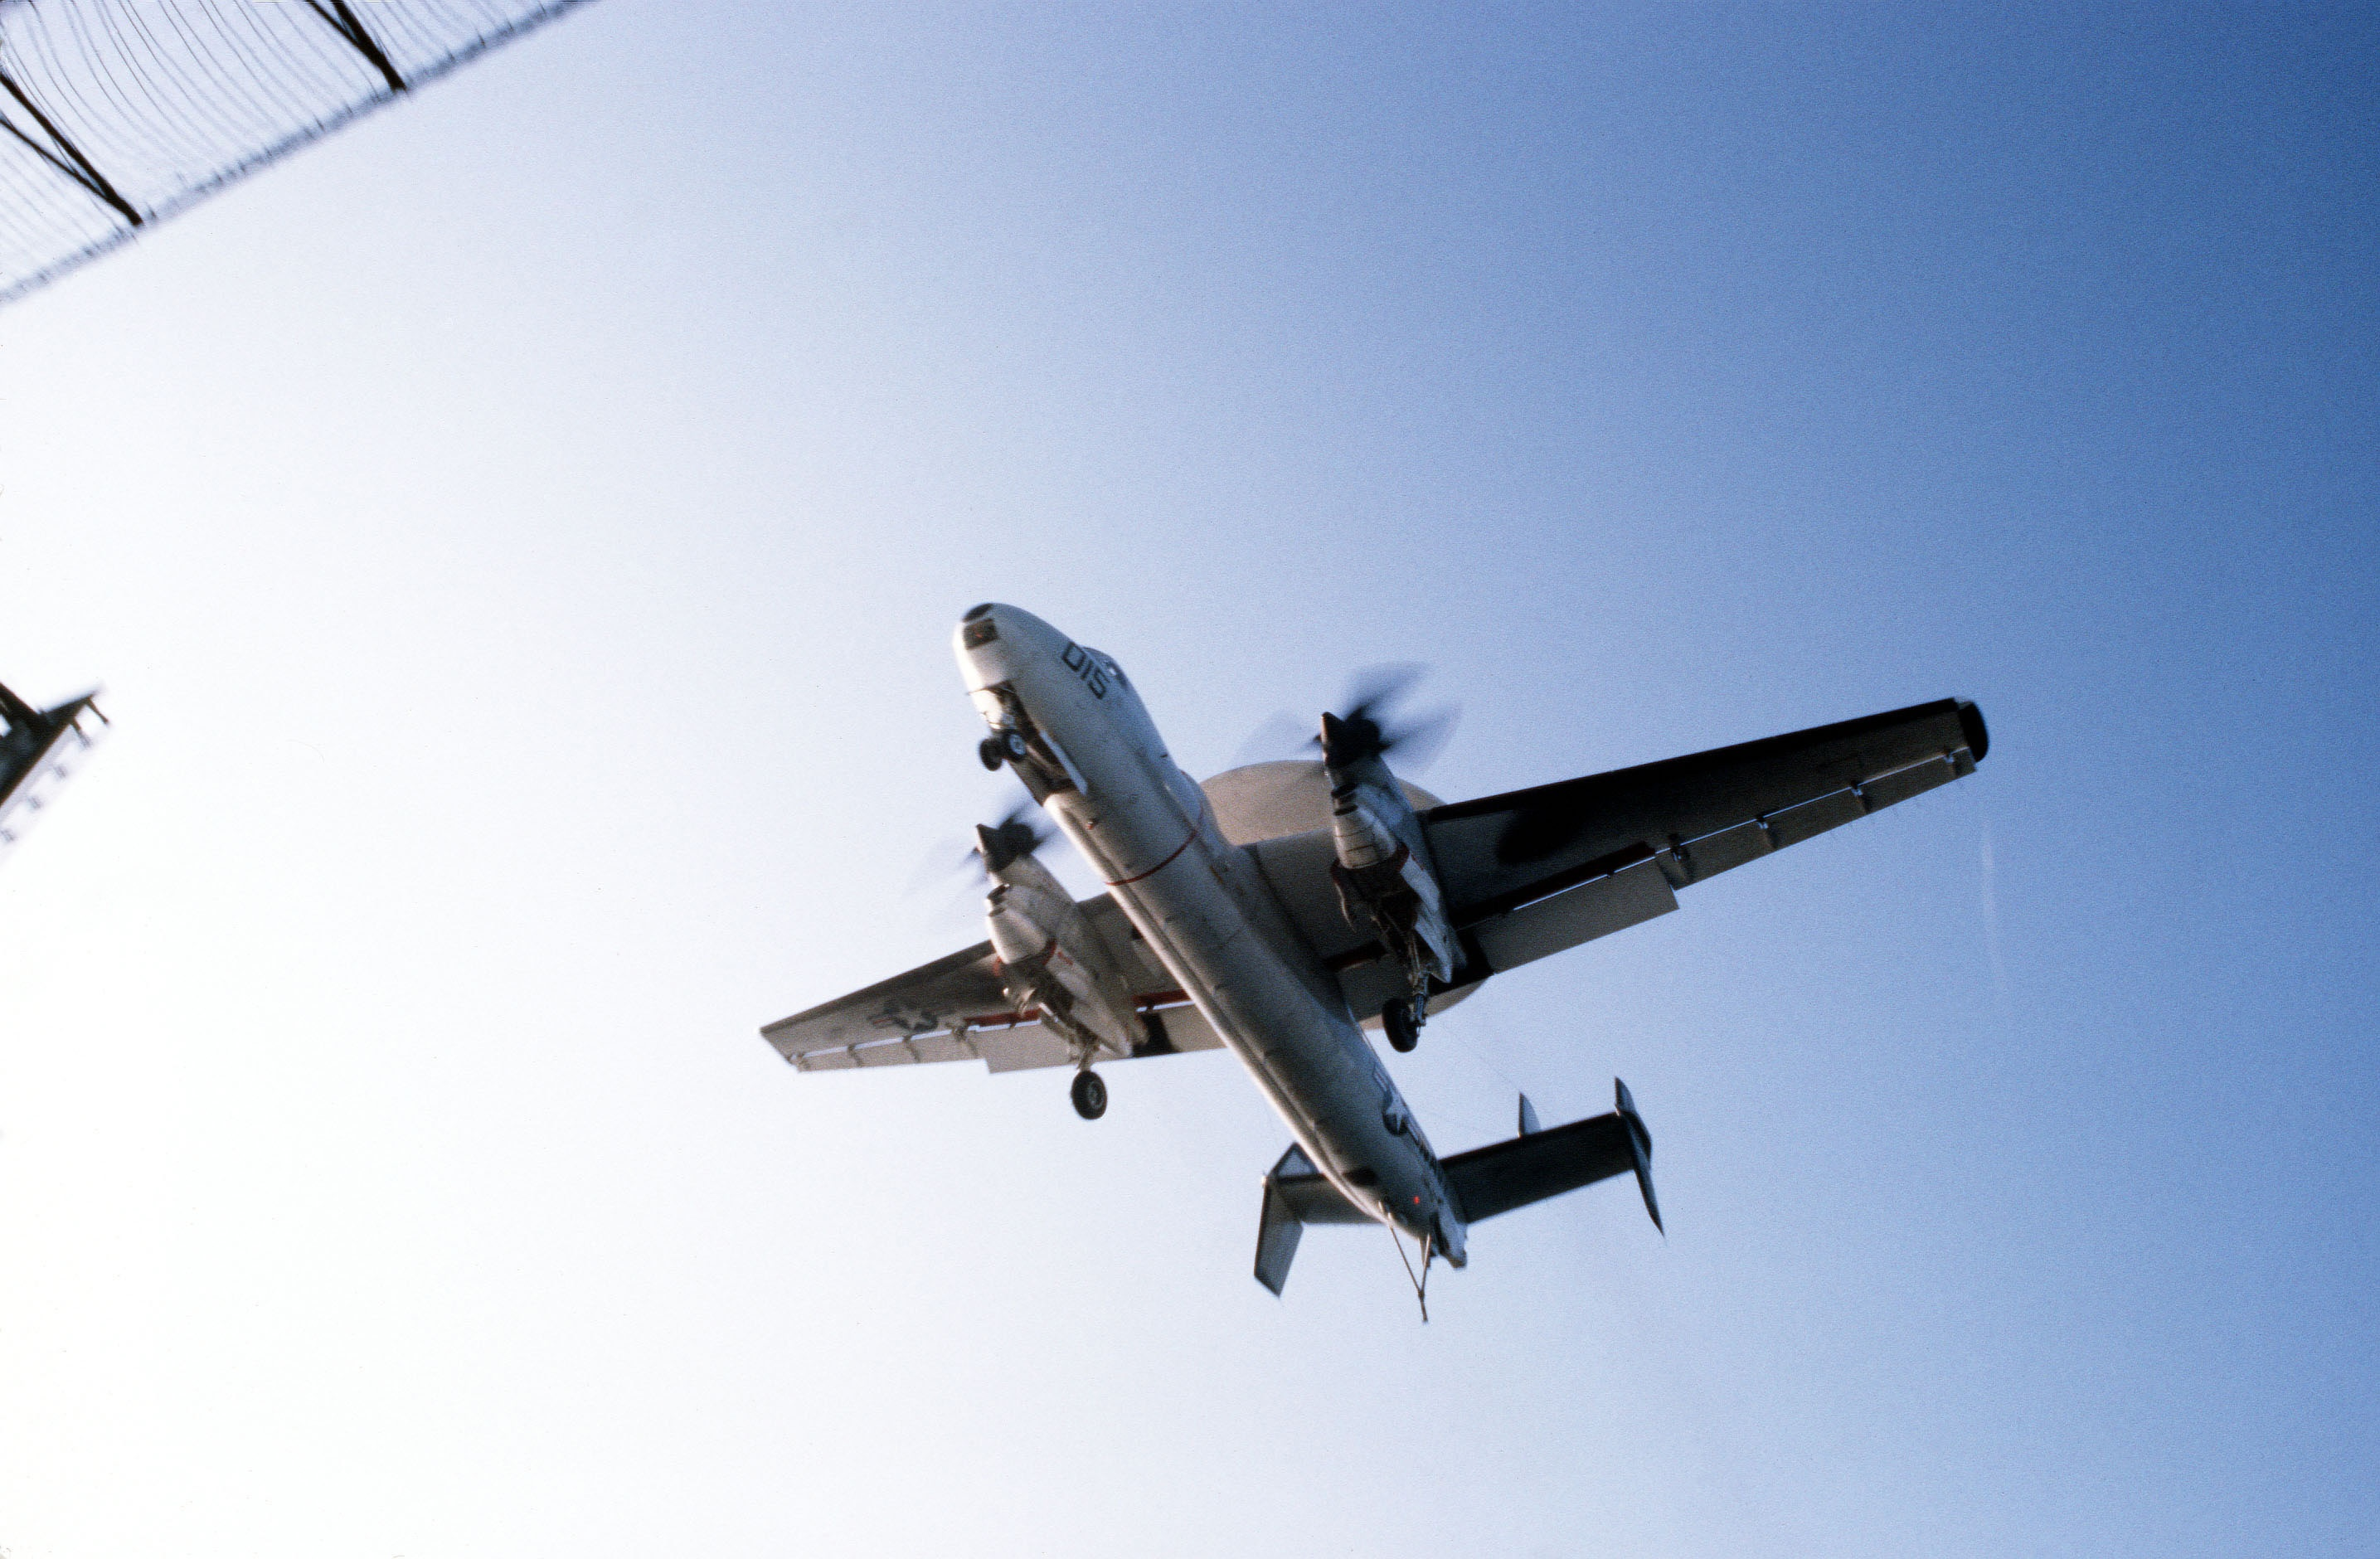E2: (759, 602, 1989, 1328)
